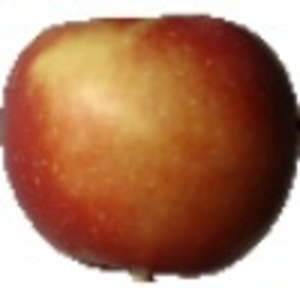maçã braeburn: (1, 10, 299, 274)
